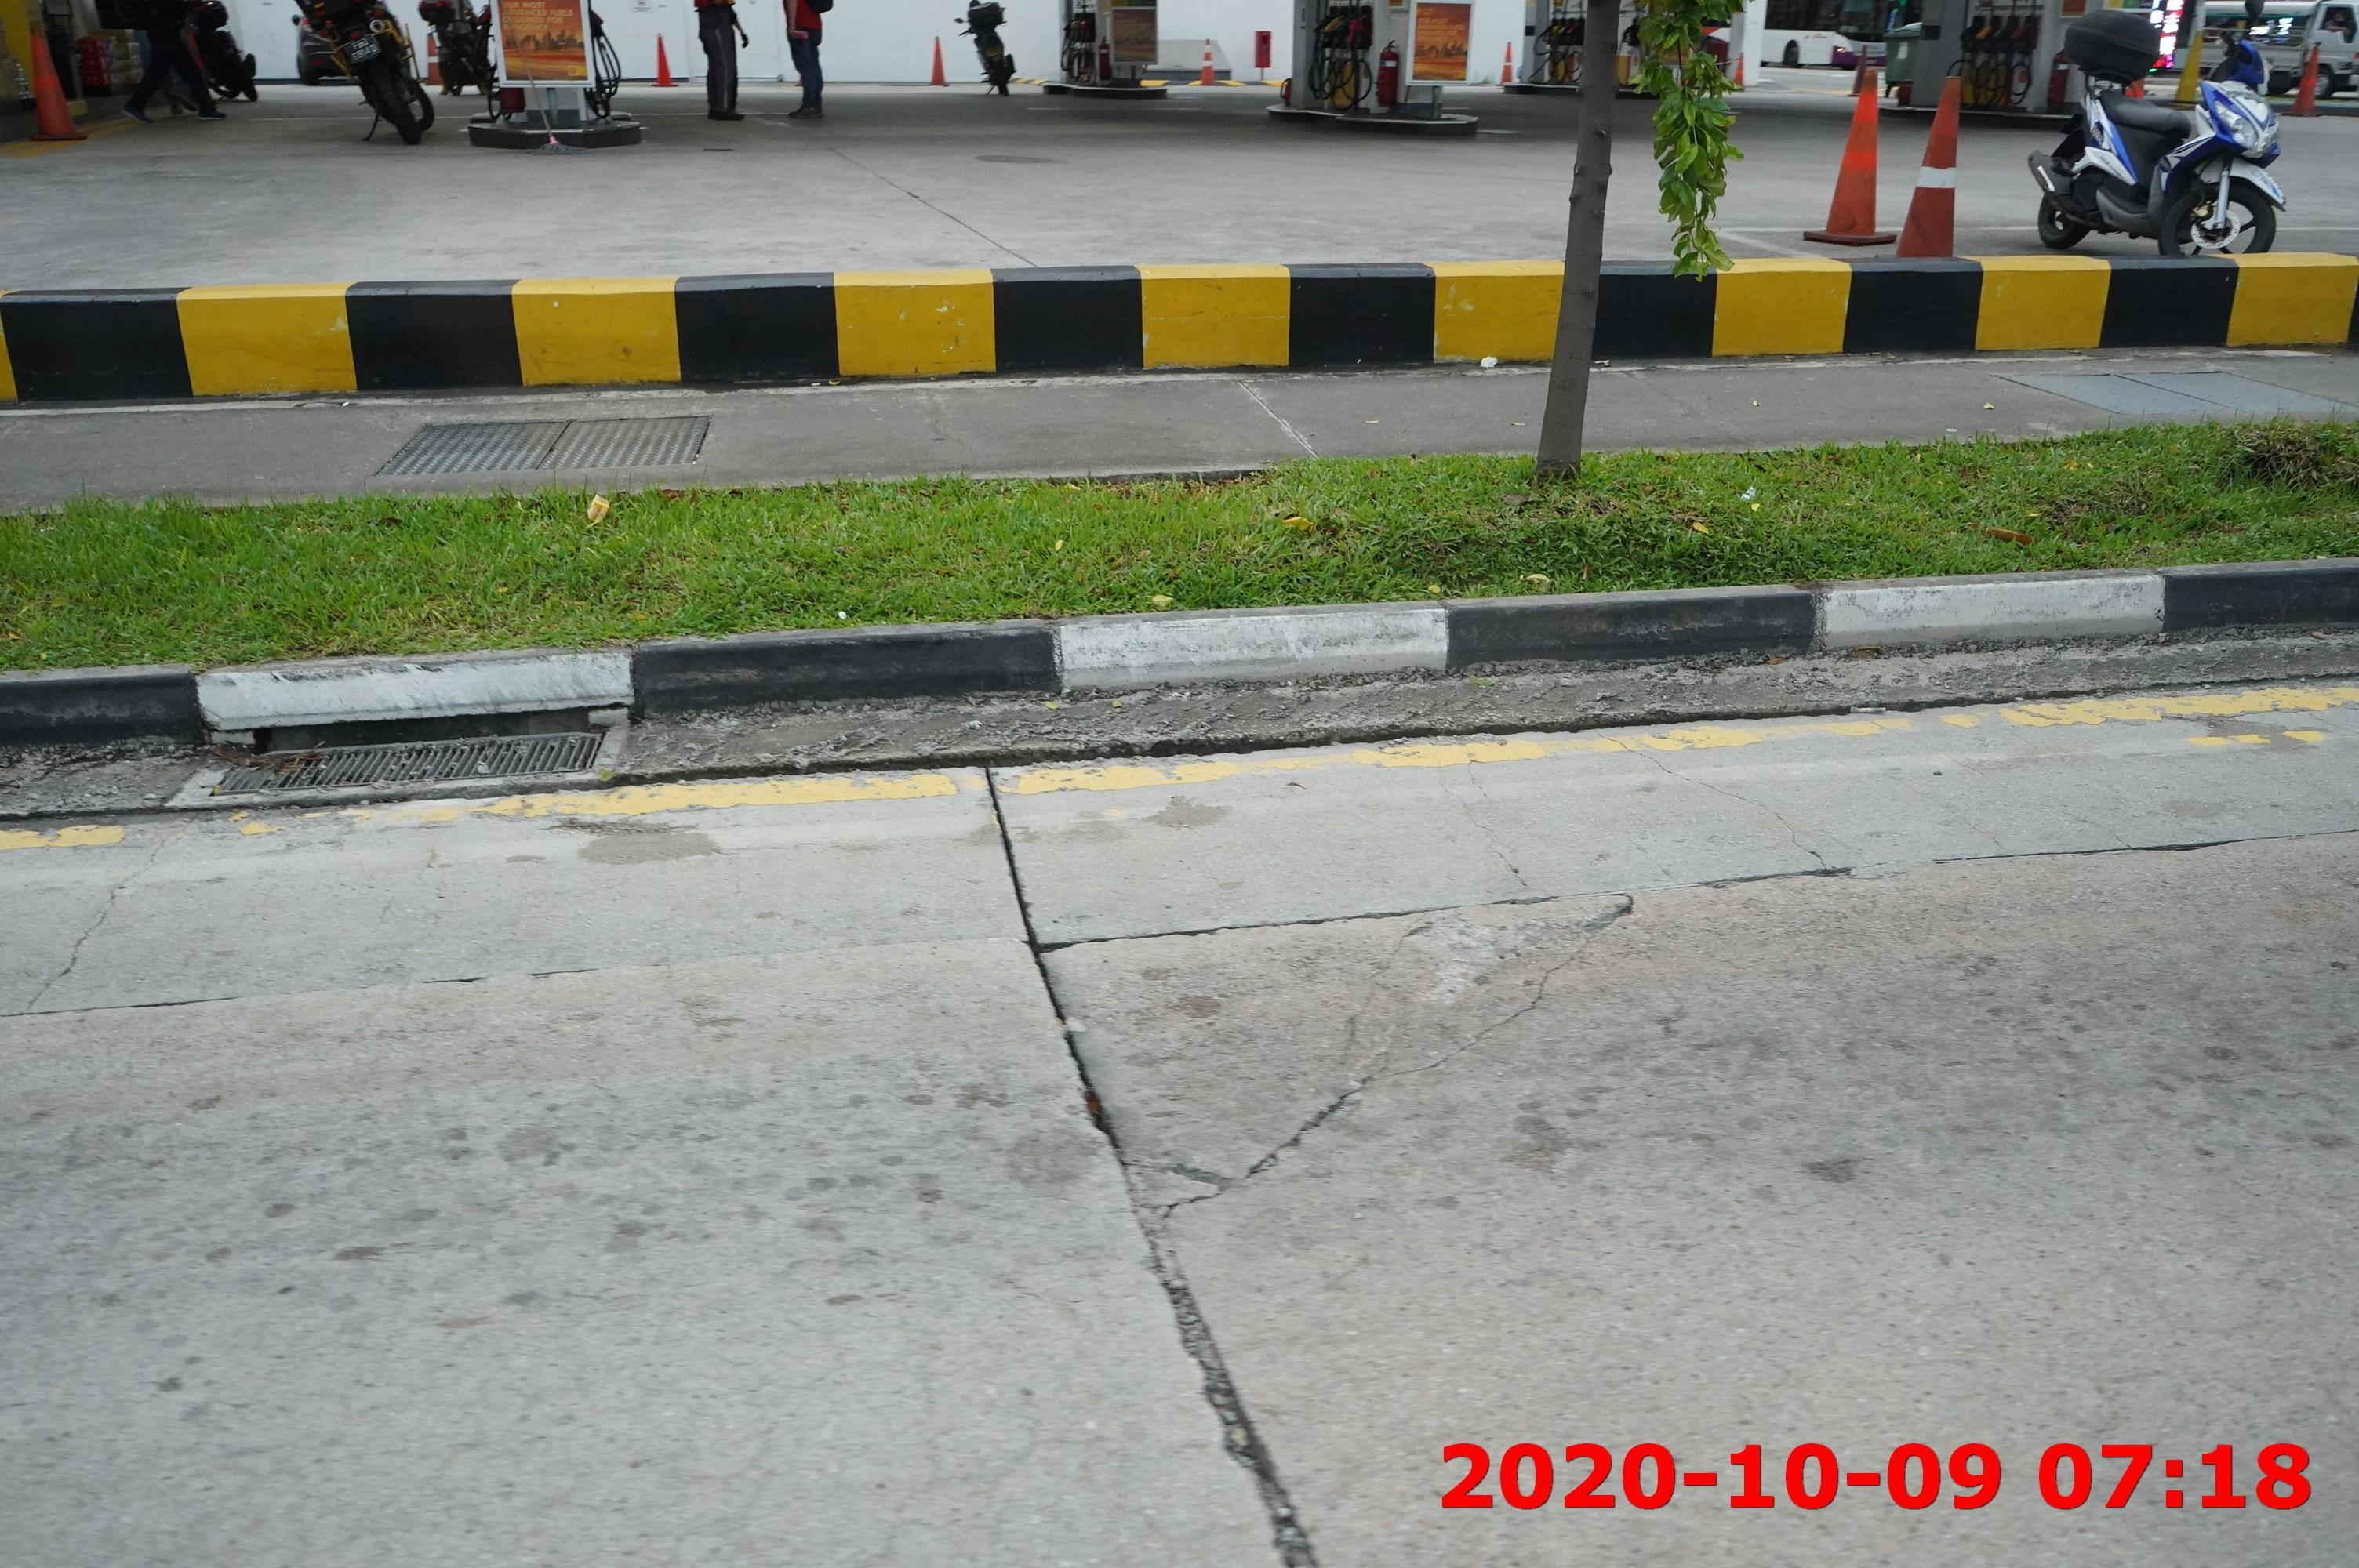localise surface defect: (522, 805, 763, 882)
